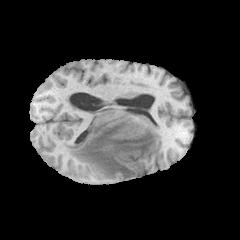glioma: (63, 96, 162, 180)
